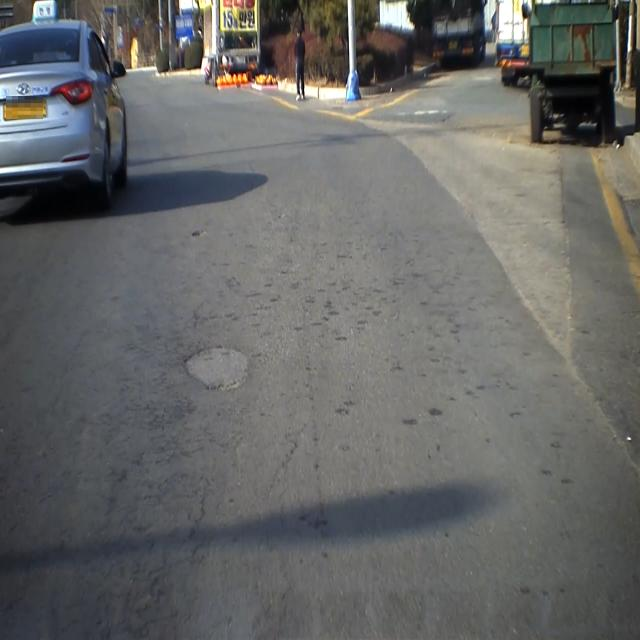Pothole: (177, 330, 256, 404)
